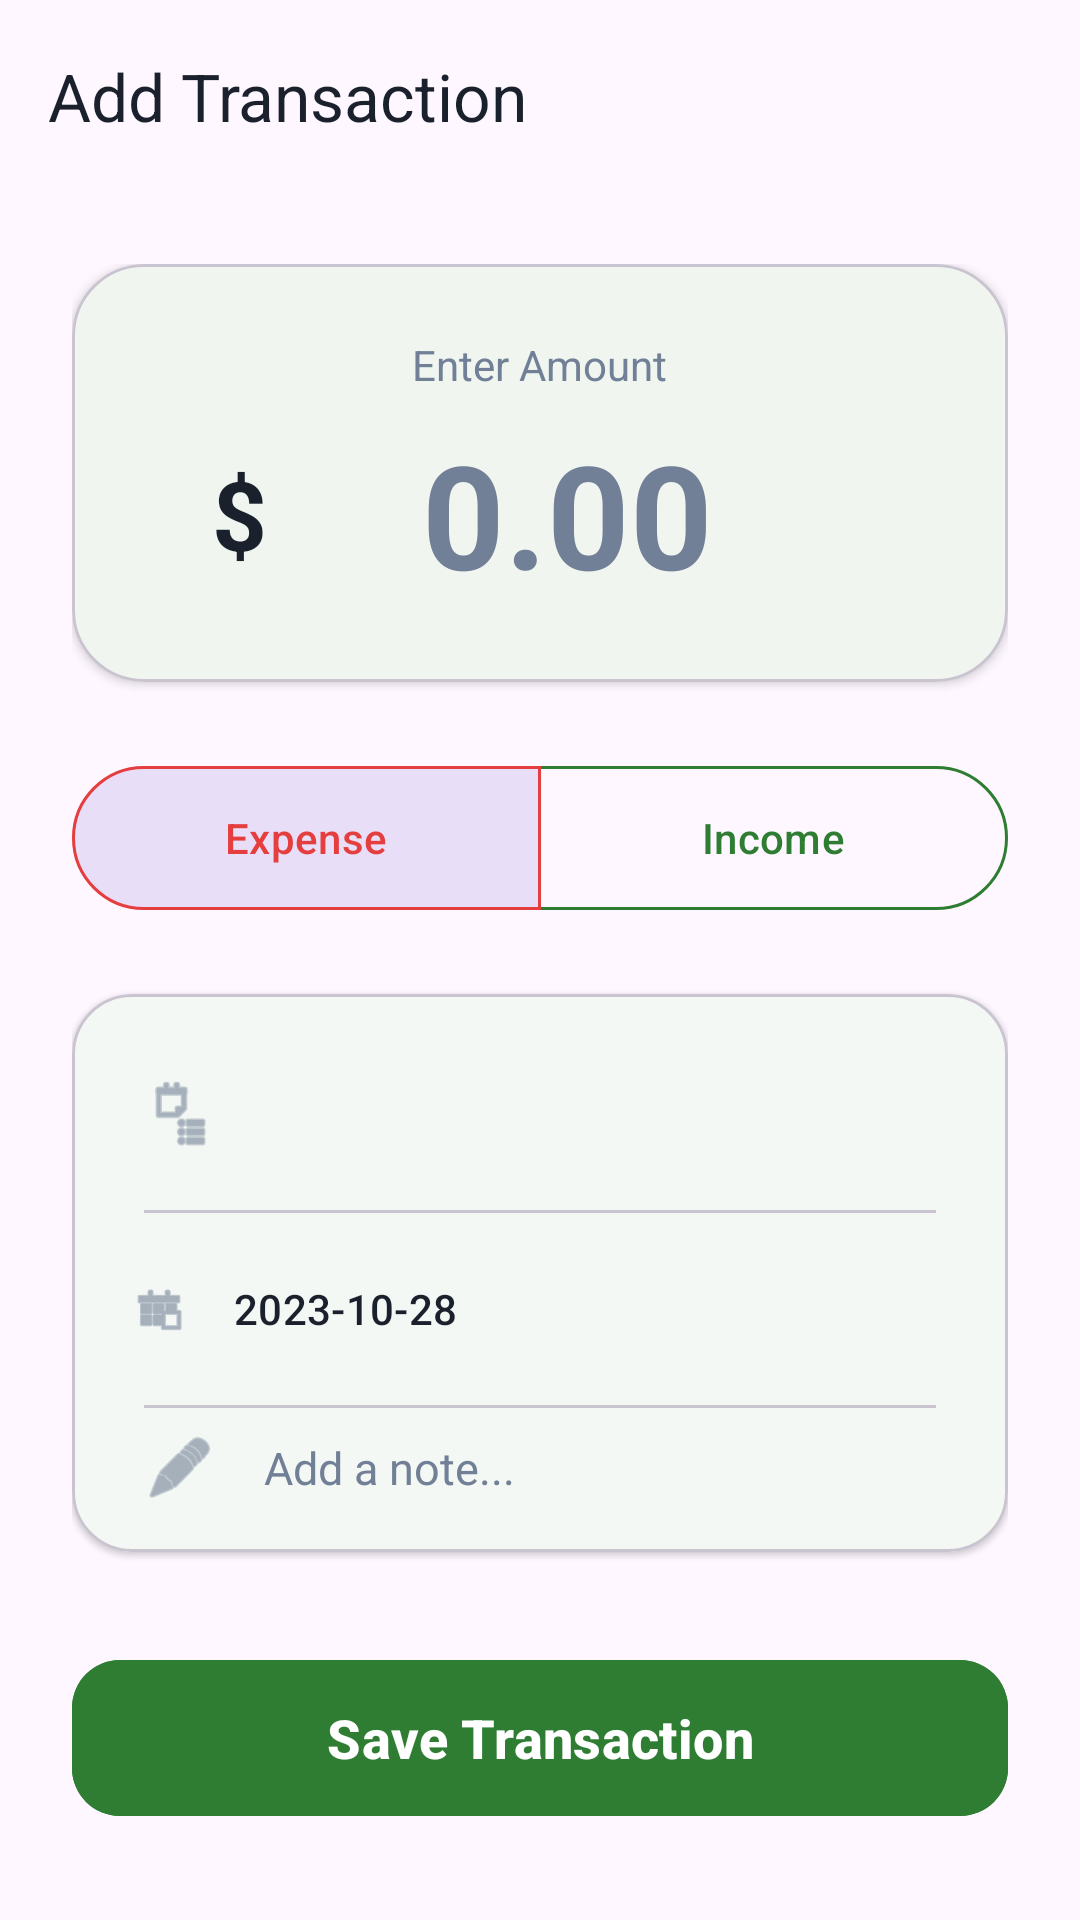

Icon bounding boxes for this 1080px x 1920px phone screenshot, format {"x1": x1, "y1": y1, "x2": x2, "y2": y2}:
agenda: {"x1": 155, "y1": 1082, "x2": 206, "y2": 1146}
edit: {"x1": 149, "y1": 1437, "x2": 210, "y2": 1498}
